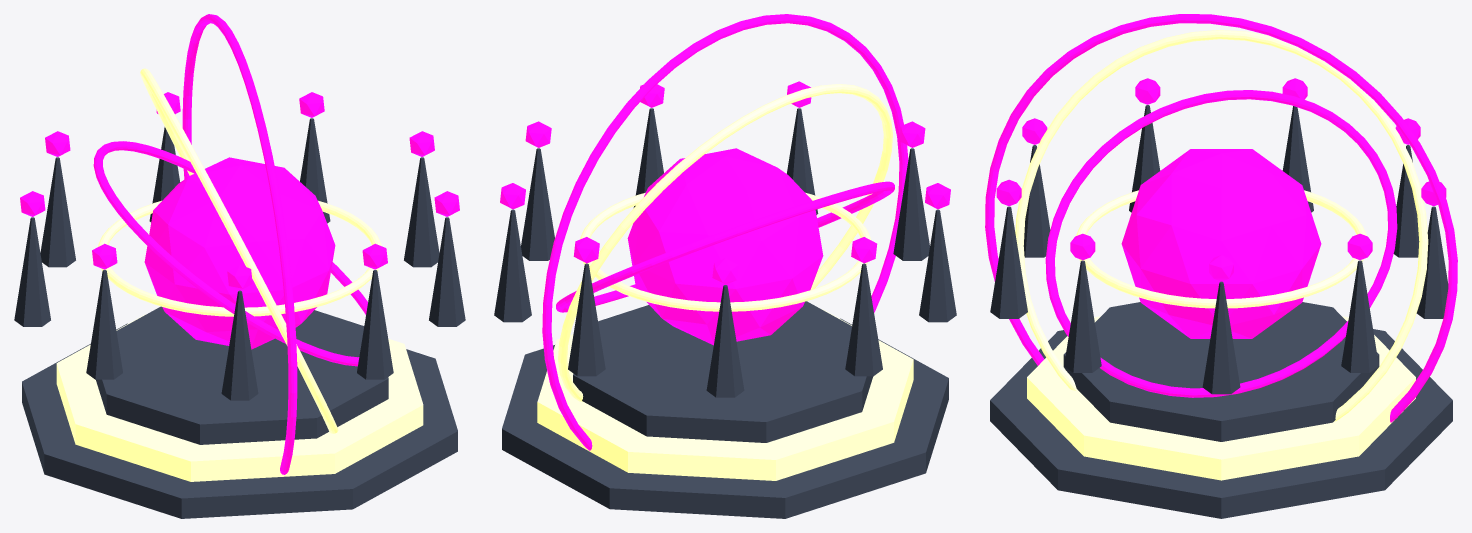
Rendered from gpu-blender-v40.glb.
3 views of the same model, side by side, from view 1: azimuth 30°, elevation 25°; view 2: azimuth 150°, elevation 25°; view 3: azimuth 270°, elevation 25° (orthographic). The views are drawn at different scales.
Parts seen in each view (by area): view 1: Cylinder.002, Cylinder, SovereignCore_audiocipher-stego-engine, Cylinder.001, Torus.003, Torus.001, Torus.002, Torus, Cone.006, Cone, Cone.003, Cone.005 (+13 smaller); view 2: Cylinder.002, SovereignCore_audiocipher-stego-engine, Cylinder, Cylinder.001, Torus.003, Torus.002, Torus.001, Torus, Cone.002, Cone.004, Cone.001, Cone.005 (+12 smaller); view 3: SovereignCore_audiocipher-stego-engine, Cylinder.002, Cylinder, Cylinder.001, Torus.003, Torus.002, Torus.001, Torus, Cone, Cone.007, Cone.001, Cone.008 (+9 smaller).
Boxes of the visible parts, x1,y1,x2,y2 form: Cylinder.002: [96, 306, 388, 444]; Cylinder: [22, 323, 457, 518]; SovereignCore_audiocipher-stego-engine: [144, 157, 335, 349]; Cylinder.001: [56, 314, 423, 481]; Torus.003: [182, 14, 297, 474]; Torus.001: [93, 141, 367, 366]; Torus.002: [140, 68, 338, 433]; Torus: [98, 200, 381, 316]; Cone.006: [221, 290, 258, 400]; Cone: [404, 157, 439, 267]; Cone.003: [40, 157, 75, 267]; Cone.005: [86, 270, 122, 379]; Cylinder.002: [573, 301, 873, 442]; SovereignCore_audiocipher-stego-engine: [627, 148, 823, 345]; Cylinder: [502, 318, 948, 518]; Cylinder.001: [537, 309, 913, 480]; Torus.003: [542, 14, 908, 450]; Torus.002: [558, 84, 892, 401]; Torus.001: [556, 181, 894, 312]; Torus: [580, 192, 870, 311]; Cone.002: [568, 263, 605, 376]; Cone.004: [845, 263, 882, 376]; Cone.001: [494, 209, 531, 322]; Cone.005: [919, 209, 956, 322]; SovereignCore_audiocipher-stego-engine: [1121, 149, 1321, 338]; Cylinder.002: [1063, 302, 1379, 441]; Cylinder: [990, 329, 1452, 518]; Cylinder.001: [1027, 316, 1415, 480]; Torus.003: [985, 14, 1457, 422]; Torus.002: [1015, 30, 1428, 421]; Torus.001: [1045, 90, 1397, 397]; Torus: [1076, 190, 1366, 308]; Cone: [1202, 281, 1240, 394]; Cone.007: [990, 206, 1027, 318]; Cone.001: [1341, 260, 1378, 372]; Cone.008: [1064, 260, 1101, 372].
Bounding box in the file's own units: 4.41 × 4.7 × 4.49.
